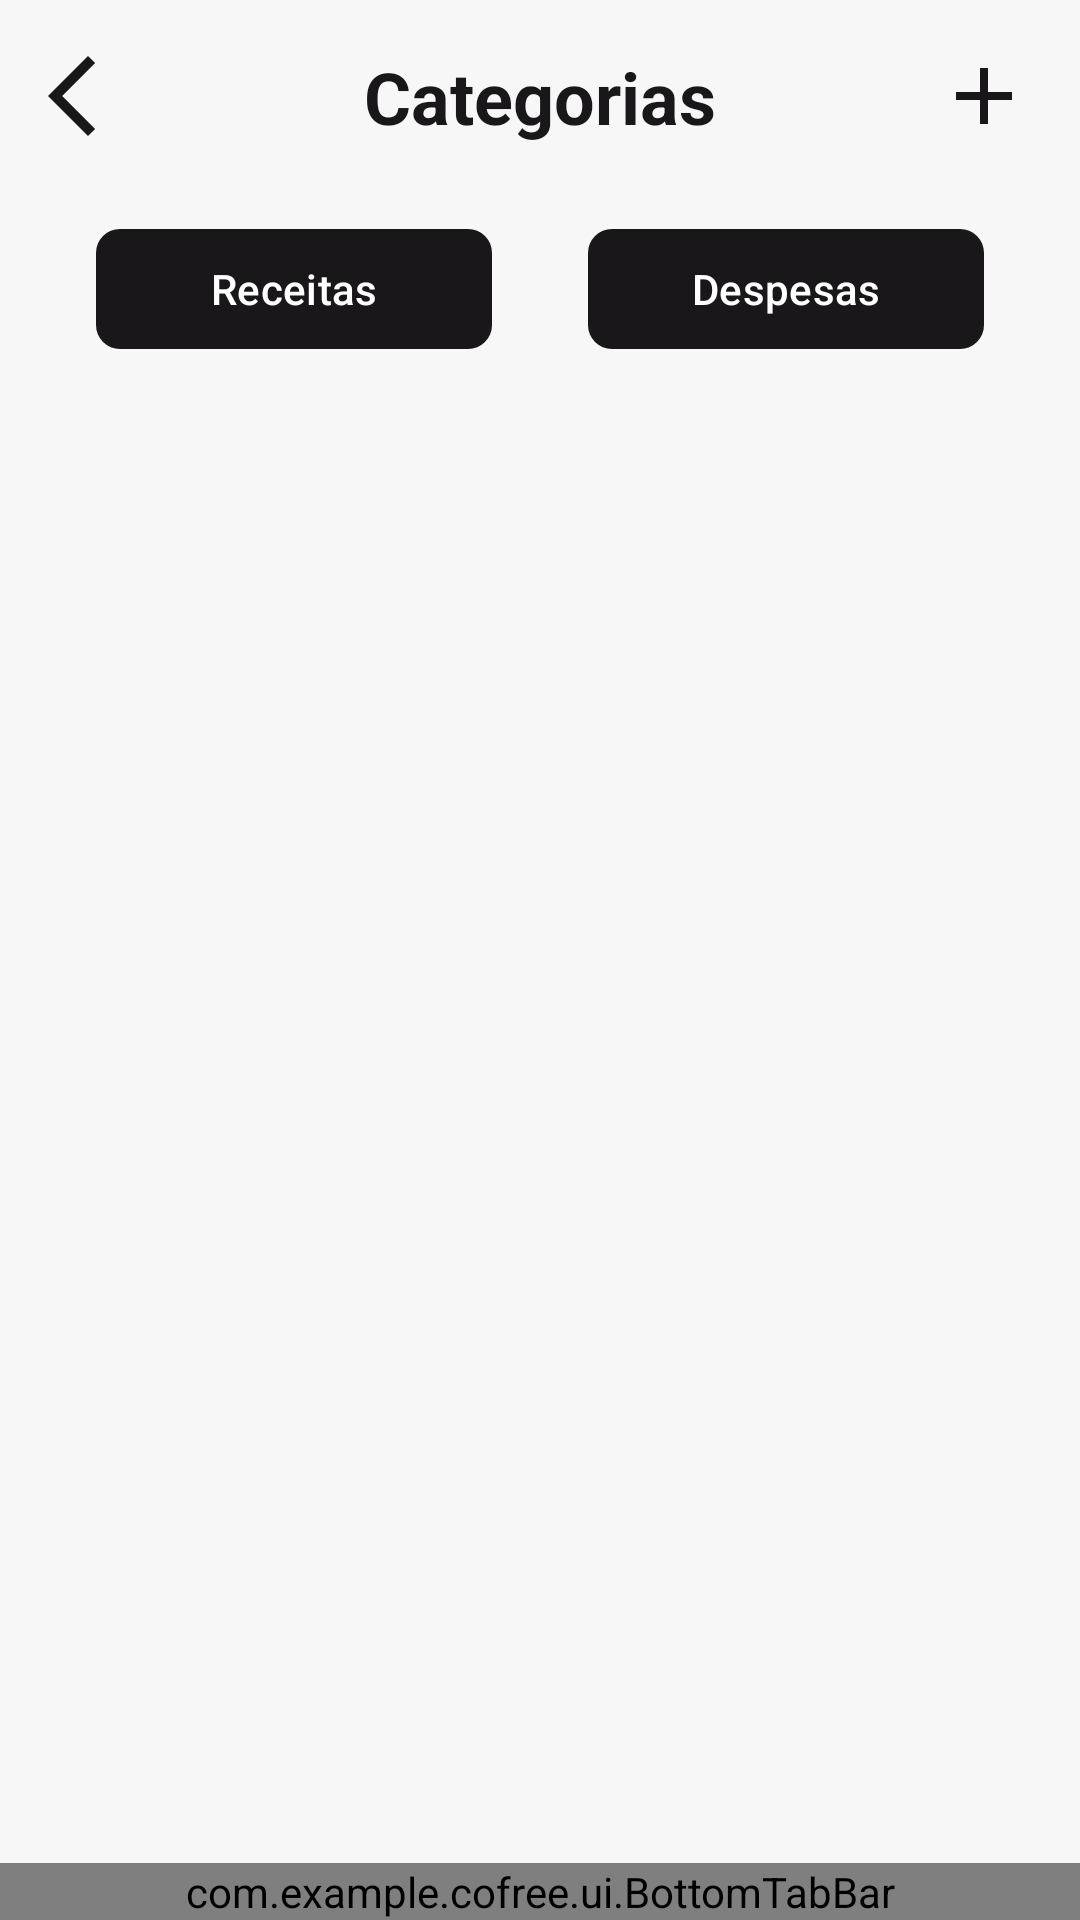

Screen size 1080*1920. Icon name, then its box in pixels as region(x1, y1, x2, y2):
add: region(956, 68, 1012, 124)
chevron left: region(48, 56, 95, 136)
